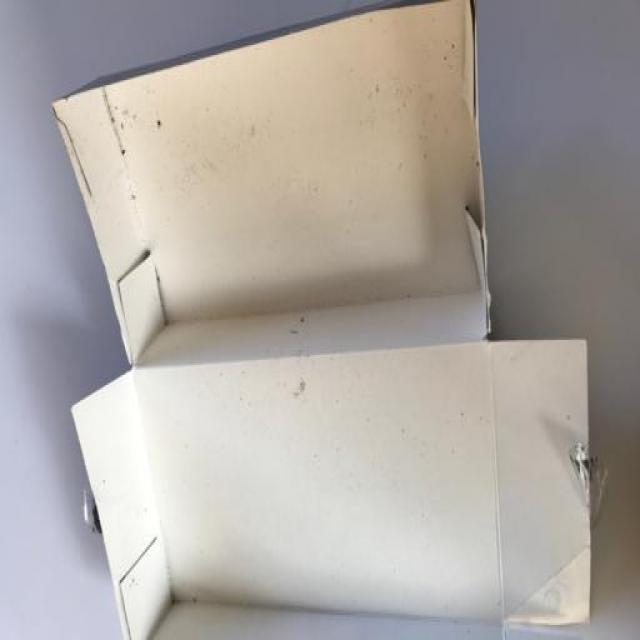cardboard: (33, 1, 626, 640)
